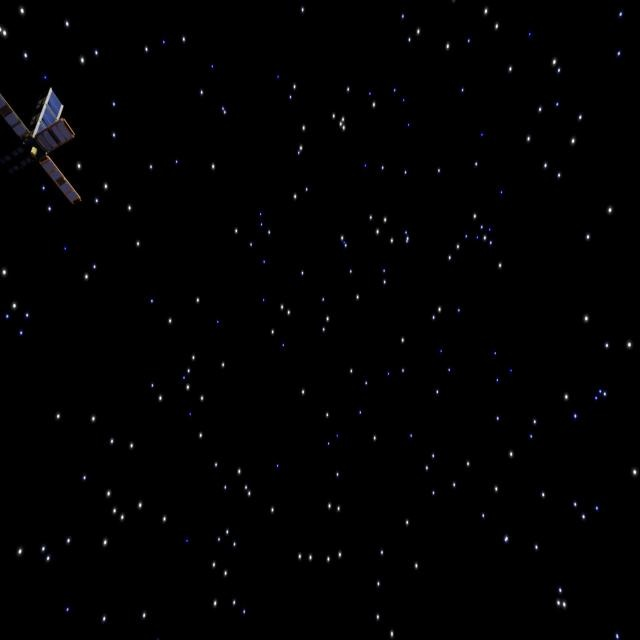satellite: (0, 67, 90, 204)
